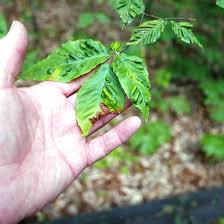Diseased_Leaves: (84, 84, 118, 113), (123, 62, 148, 99), (65, 43, 106, 58), (45, 65, 75, 78), (139, 25, 155, 42)
